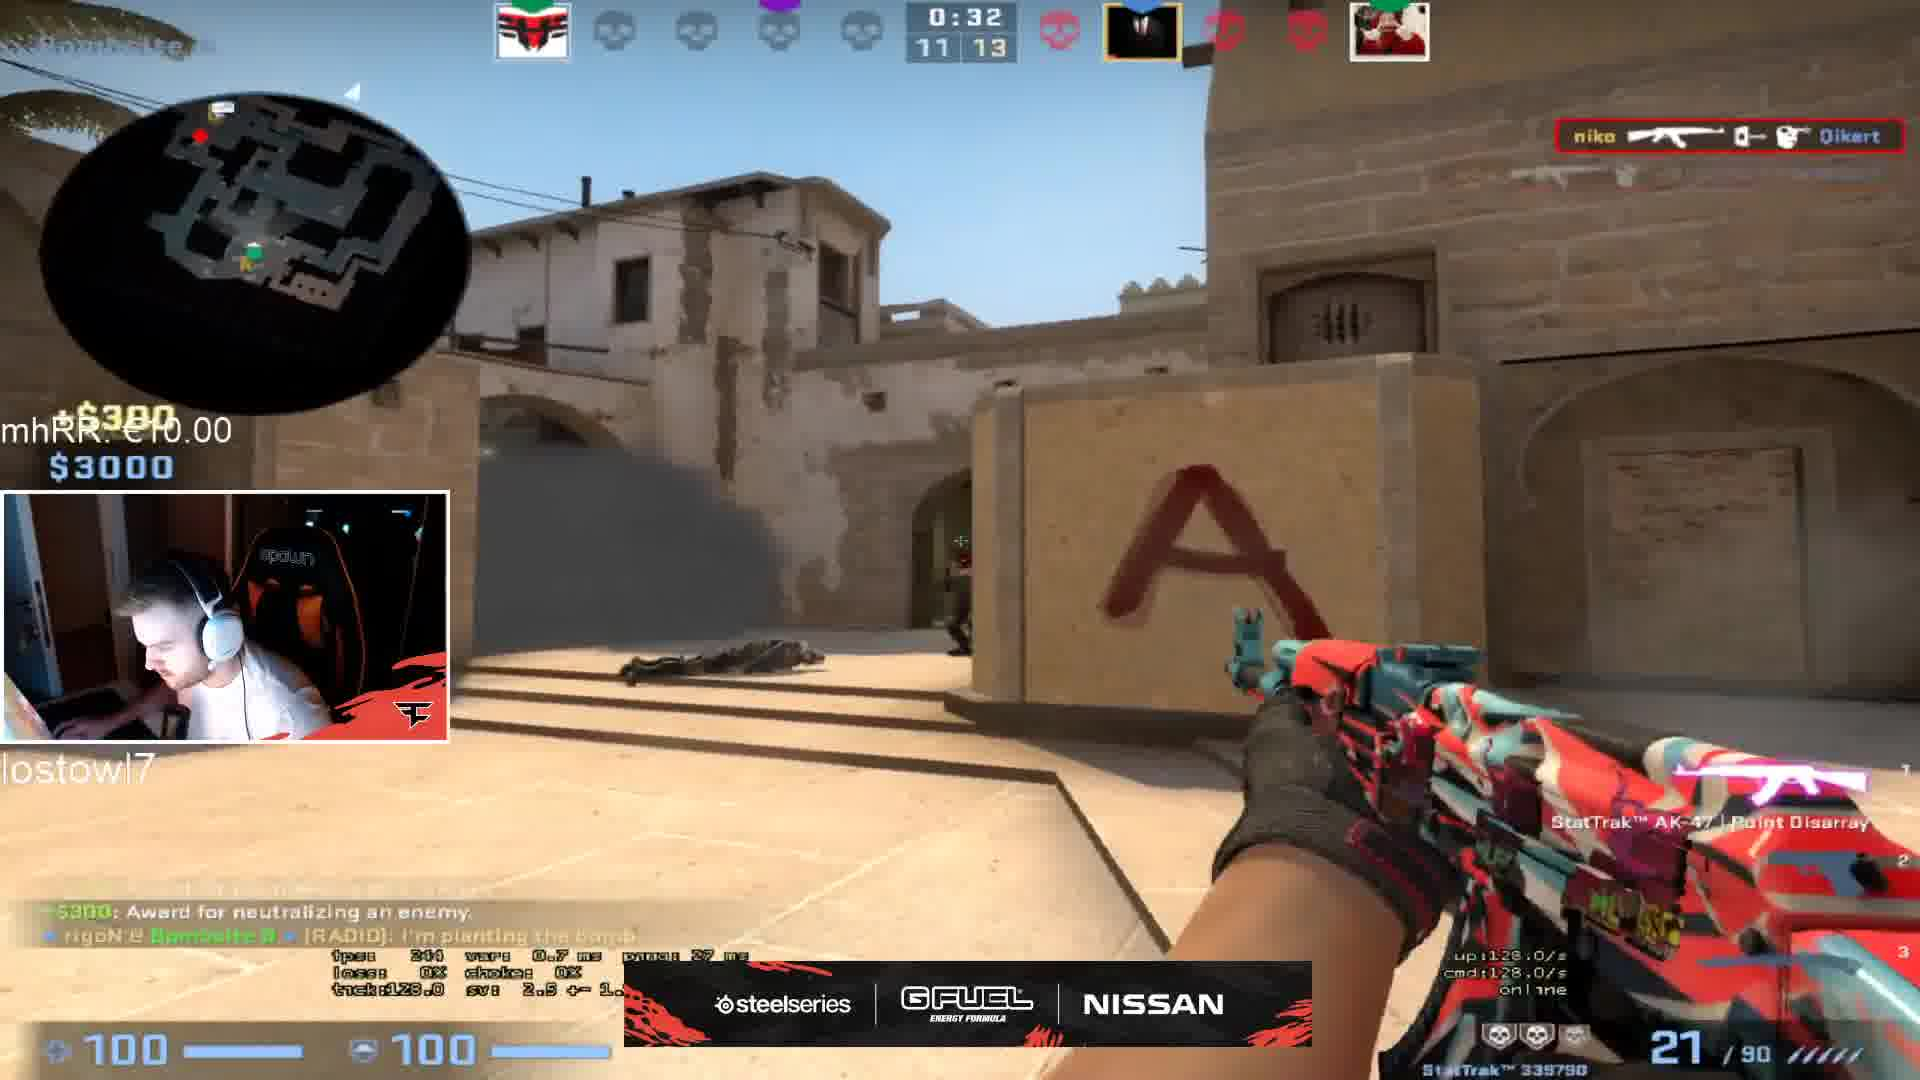enemy: (938, 550, 981, 651)
